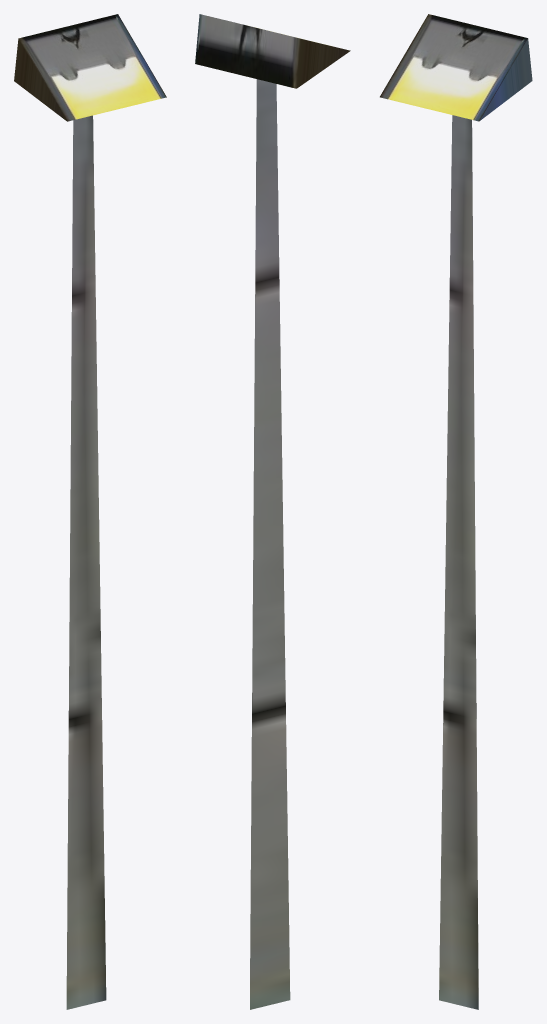
The model's file is streetlight_hdtex.glb.
3 views of the same model, side by side, from view 1: azimuth 30°, elevation 25°; view 2: azimuth 150°, elevation 25°; view 3: azimuth 330°, elevation 25° (orthographic).
Parts seen in each view (by area): view 1: streetlight; view 2: streetlight; view 3: streetlight.
Boxes of the visible parts, x1,y1,x2,y2 form: streetlight: (14,14,166,1009); streetlight: (195,14,350,1009); streetlight: (380,14,532,1009).
Bounding box in the file's own units: 0.8932 × 8.26 × 0.8268.
Materials: 1 (1 with a texture image).
